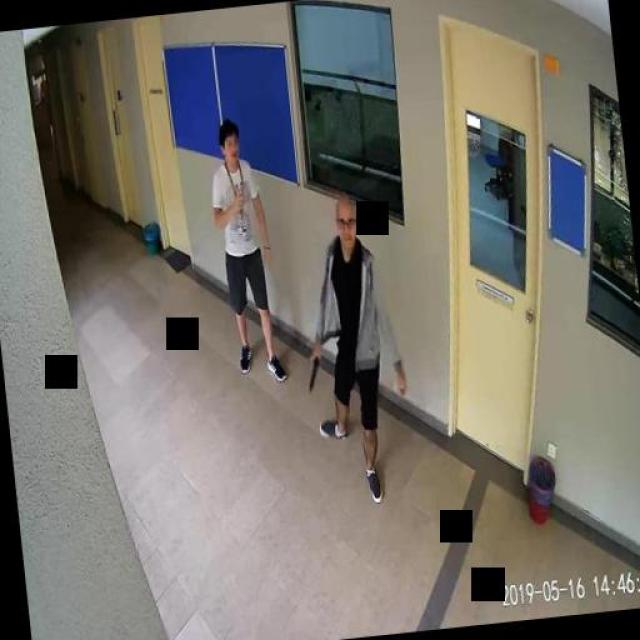gun: (304, 352, 322, 392)
